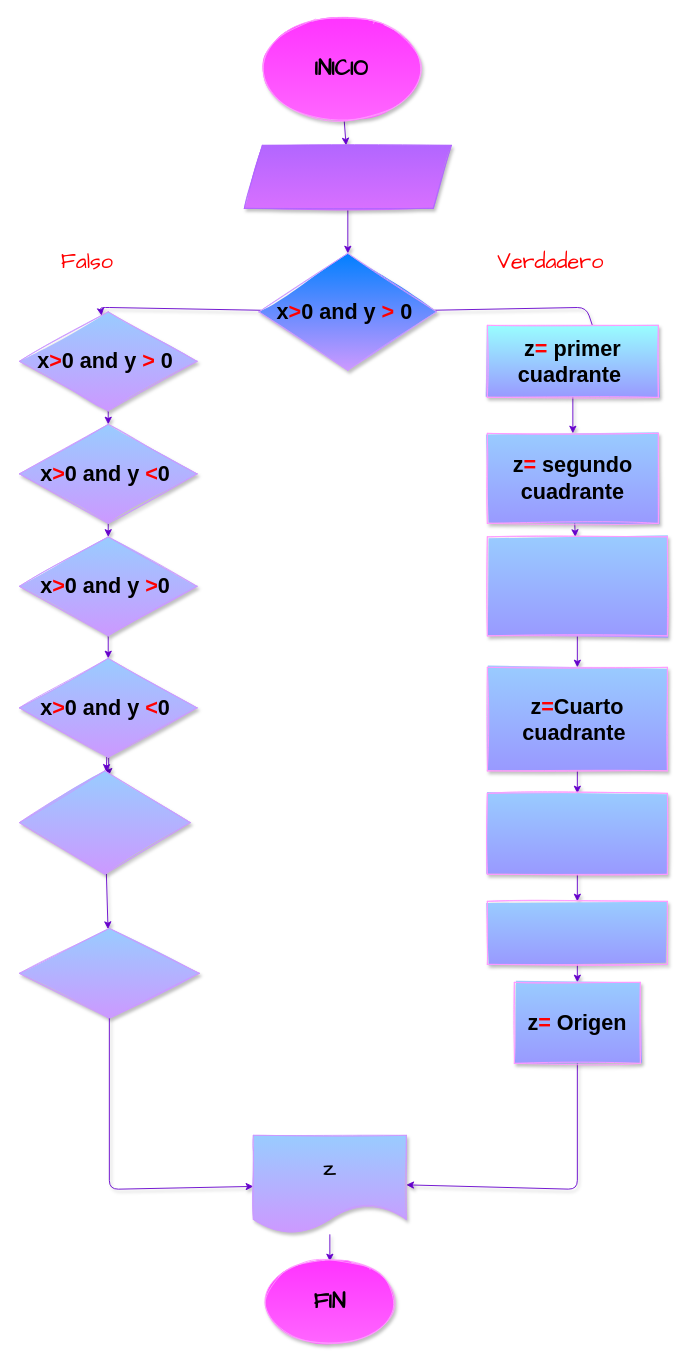
Some shapes in this 689 by 1364 pixel diagram are drawn without their labels. The centre of each missing label's shape, as x and y in pixels:
x != 0 and y == 0: (110,974)
x , y: (348,178)
x == 0 and y ! = 0: (105,823)
z = Eje X: (578,934)
z = Eje Y: (578,835)
z = Tercer cuadrante: (578,587)
